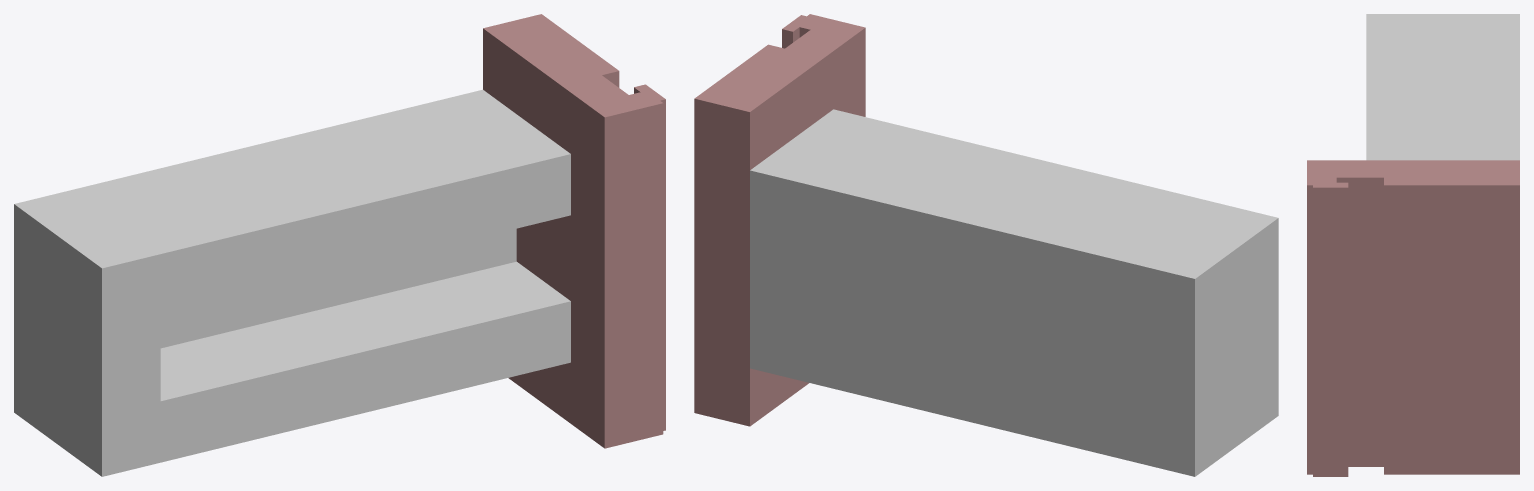
The model's file is REFRIGERATOR-BODYSET4_link_mesh.dae.
3 renders of one model, left to right at view 1: azimuth 30°, elevation 25°; view 2: azimuth 150°, elevation 25°; view 3: azimuth 270°, elevation 25°, orthographic. The views are drawn at different scales.
Parts seen in each view (by area): view 1: REFRIGERATOR-BODYSET4_link (×2); view 2: REFRIGERATOR-BODYSET4_link (×2); view 3: REFRIGERATOR-BODYSET4_link (×2).
Boxes of the visible parts, <box> form: REFRIGERATOR-BODYSET4_link (×2): <box>14,14,665,476</box>; REFRIGERATOR-BODYSET4_link (×2): <box>694,14,1278,476</box>; REFRIGERATOR-BODYSET4_link (×2): <box>1307,14,1519,476</box>.
Size of the model in its own units: 0.455 by 0.27 by 0.18.
